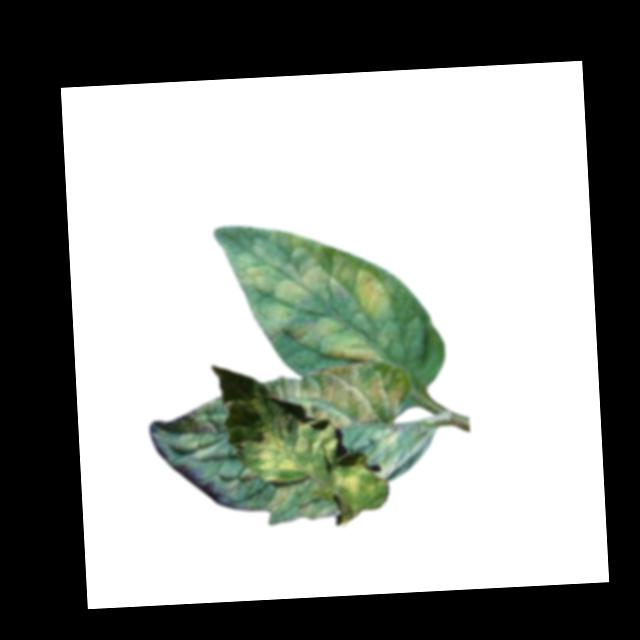Leaf_Mold: (236, 224, 351, 324), (264, 361, 416, 430), (250, 427, 345, 486), (291, 313, 381, 364), (354, 264, 395, 326), (330, 462, 378, 503)
